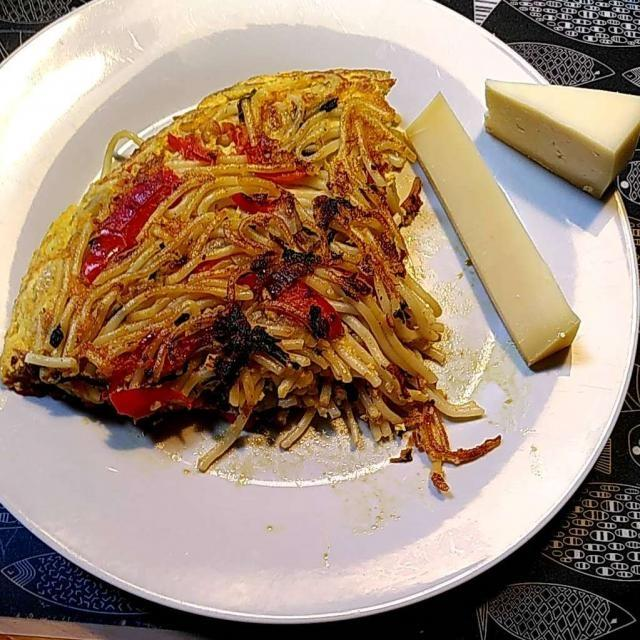bell-pepper: (67, 110, 335, 419)
cheese: (487, 82, 638, 193)
gruyere: (400, 91, 584, 368)
pasta: (33, 75, 481, 466)
